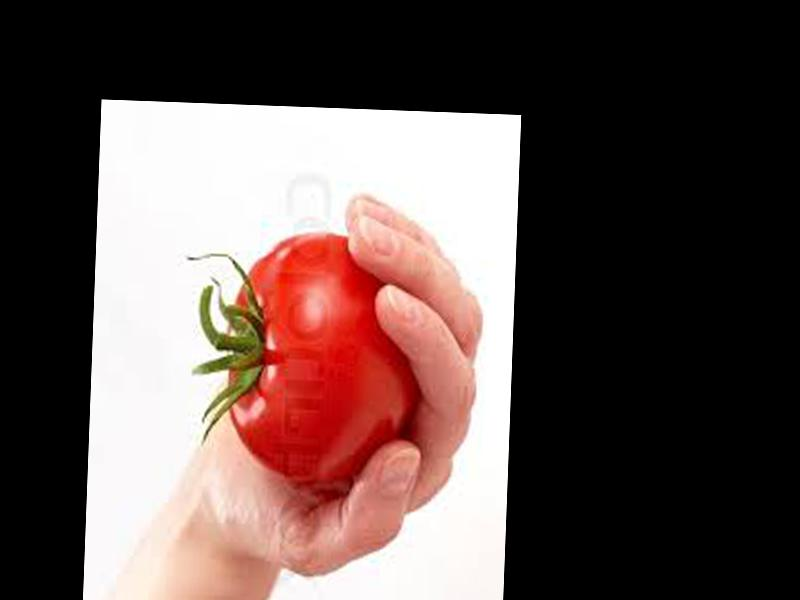Tomato: (221, 229, 422, 482)
